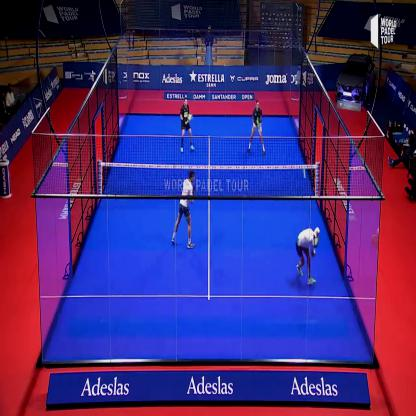ball: (302, 166, 308, 182)
